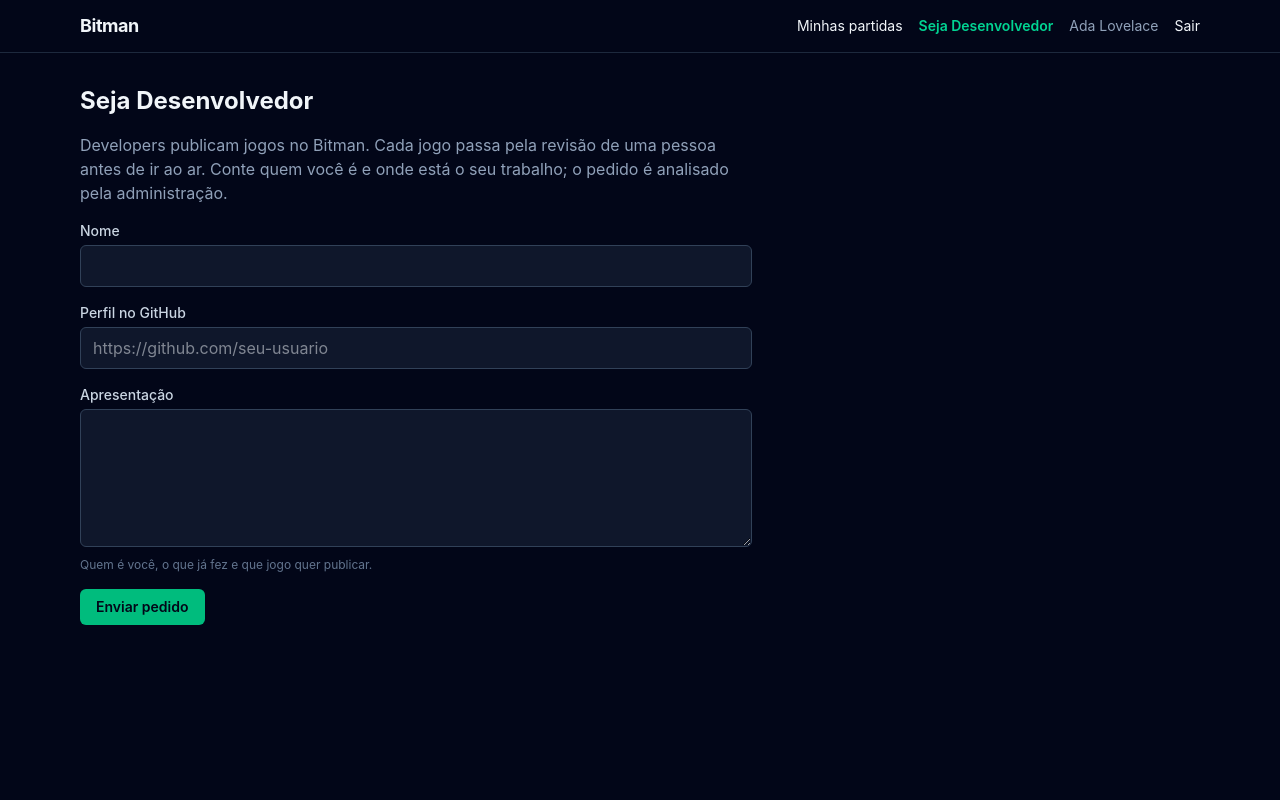
Seja Desenvolvedor (M18) › envia o pedido com nome, GitHub e apresentação e mostra que está em análise
Step 1. Type "Ana Souza" into the field labelled "Nome" → {"x": 416, "y": 266}, box [80,245,752,287]
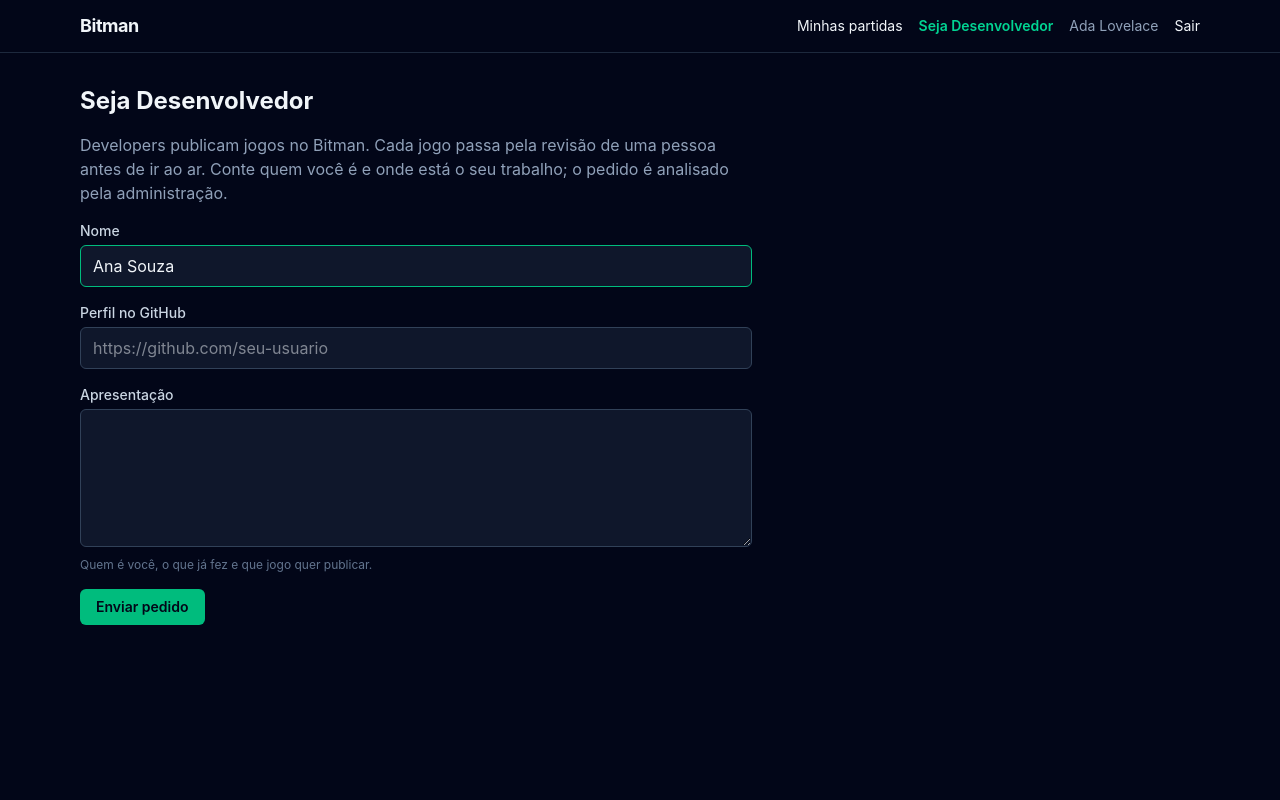
Step 2. Type "https://github.com/ana" into the field labelled "Perfil no GitHub" → {"x": 416, "y": 348}, box [80,327,752,369]
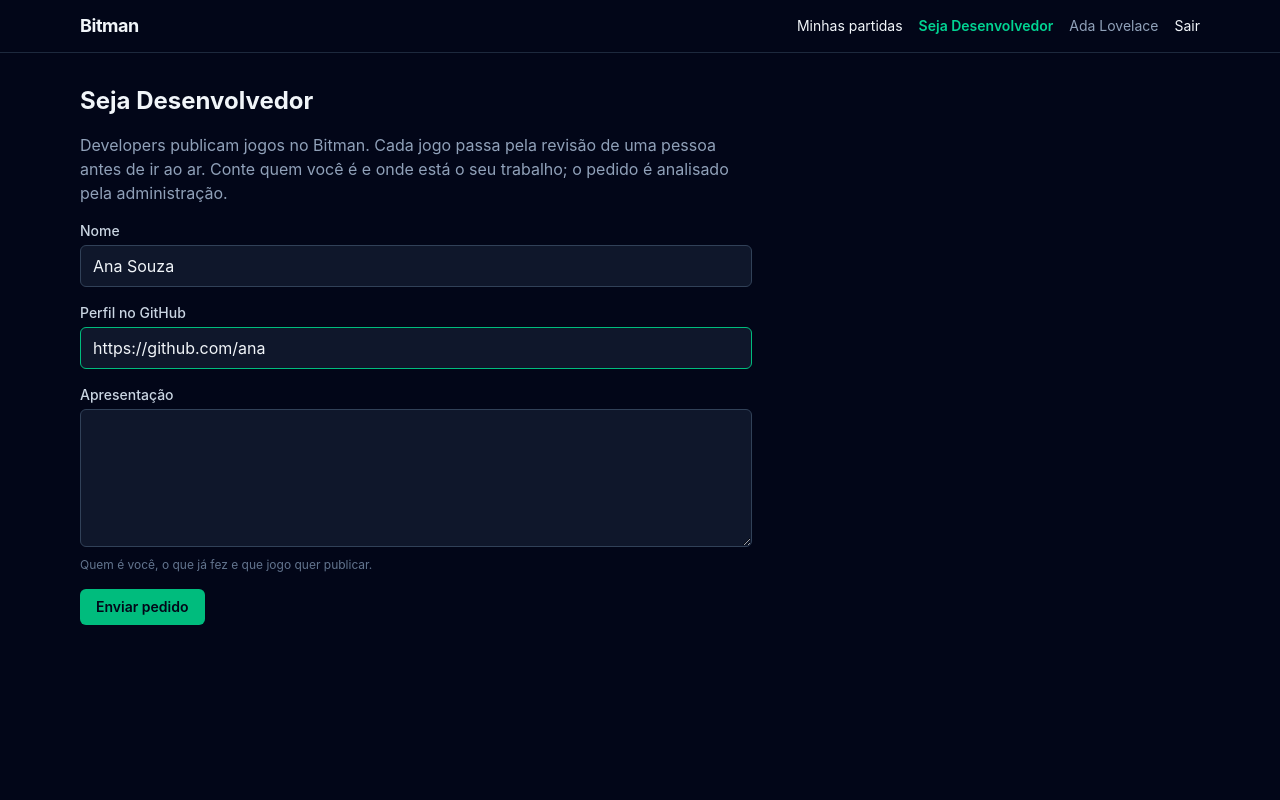
Step 3. Type "Faço jogos em canvas há 3 anos." into the text box labelled "Apresentação" → {"x": 416, "y": 478}, box [80,409,752,547]
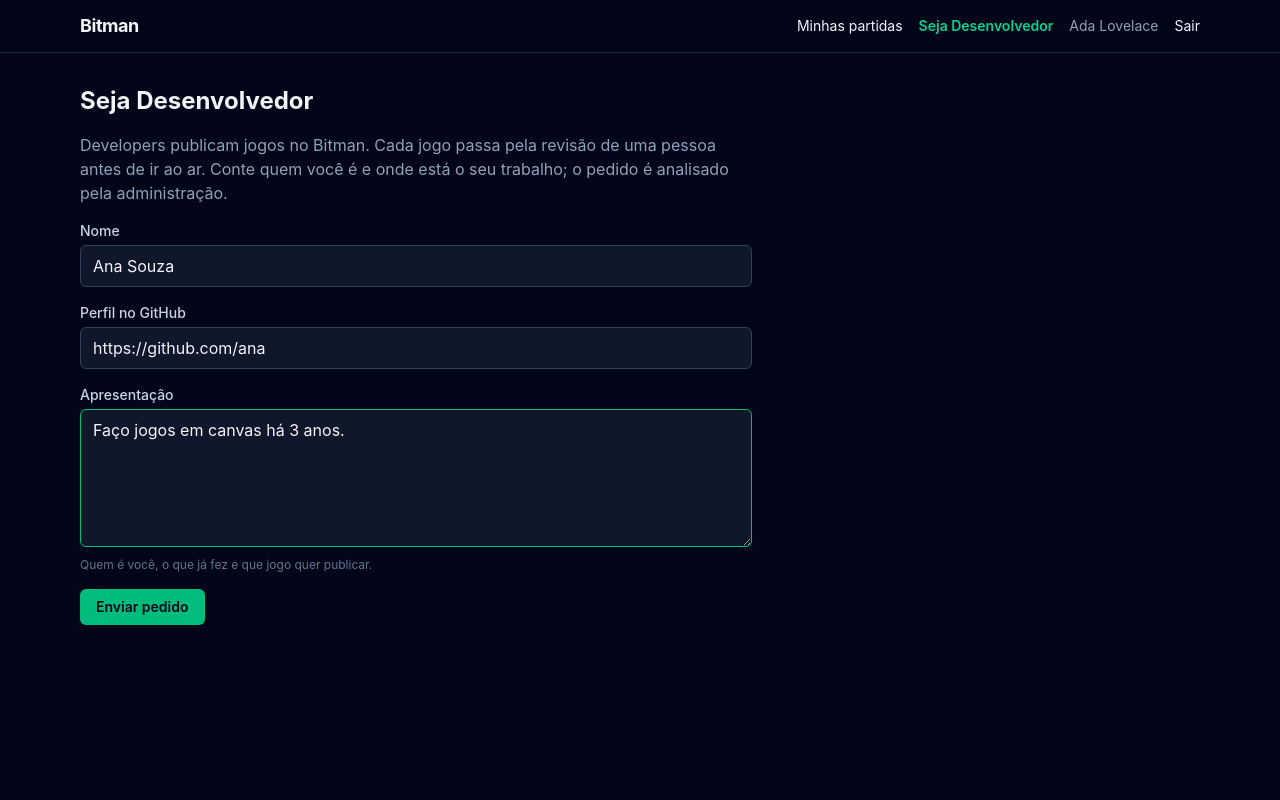
Step 4. Click the button "Enviar pedido" → {"x": 142, "y": 607}, box [80,589,204,625]
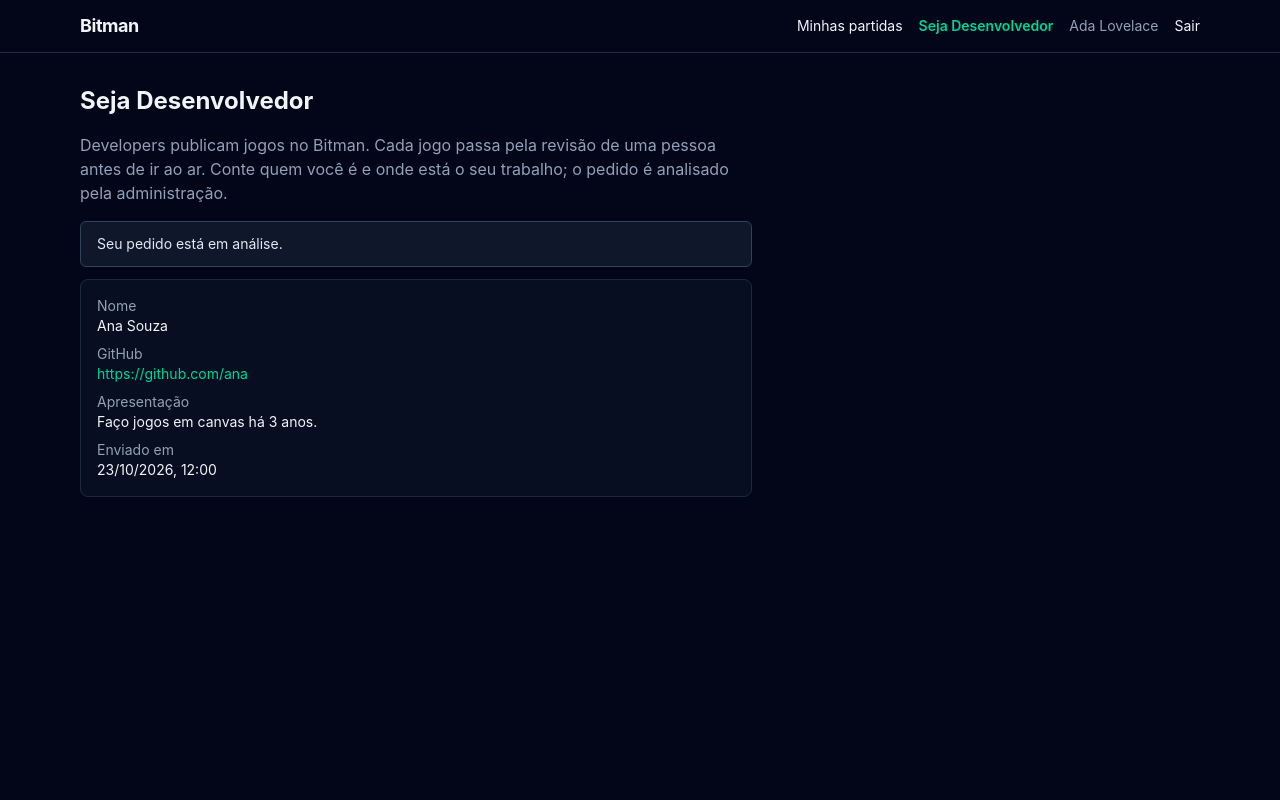
Now the text "Seu pedido está em análise." is shown, box [80,221,752,267]
